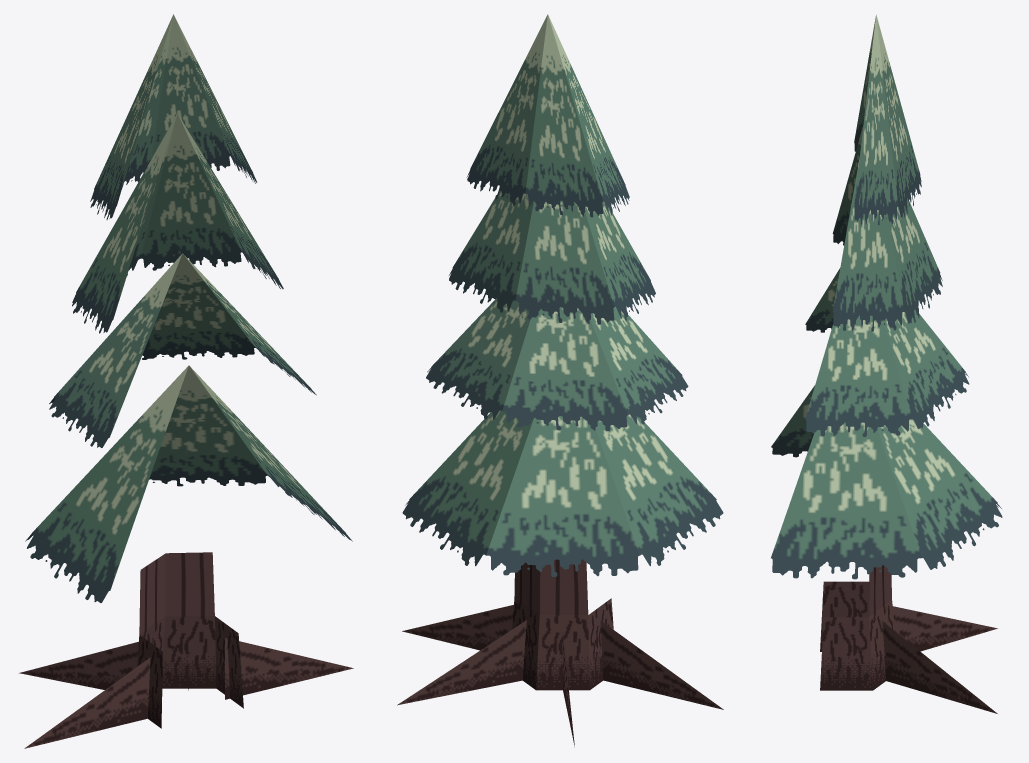
Rendered from Tree.fbx.
3 views of the same model, side by side, from view 1: azimuth 30°, elevation 25°; view 2: azimuth 150°, elevation 25°; view 3: azimuth 270°, elevation 25° (orthographic). The views are drawn at different scales.
Visible parts, largest first — view 1: Cylinder; view 2: Cylinder; view 3: Cylinder.
Boxes of the visible parts, <box> form: Cylinder: <box>19,14,353,748</box>; Cylinder: <box>397,14,723,747</box>; Cylinder: <box>771,14,1002,713</box>.
Bounding box in the file's own units: 0.8213 × 0.5643 × 1.62.
1 material, 1 textured.
